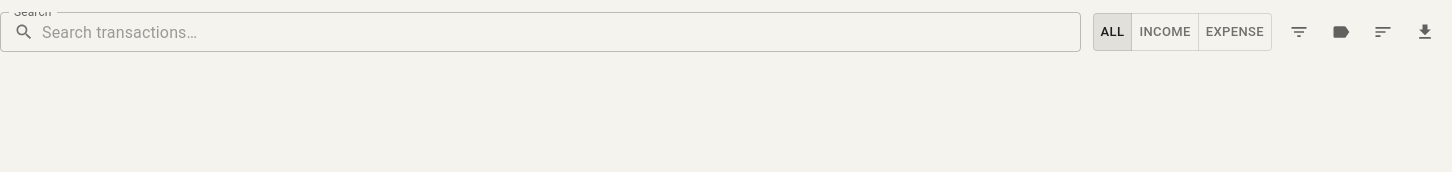
Test: FilterBar › shows category chips when filter icon is clicked
Click the button named "Filter by category": (1341, 32) [1326,17,1356,47]
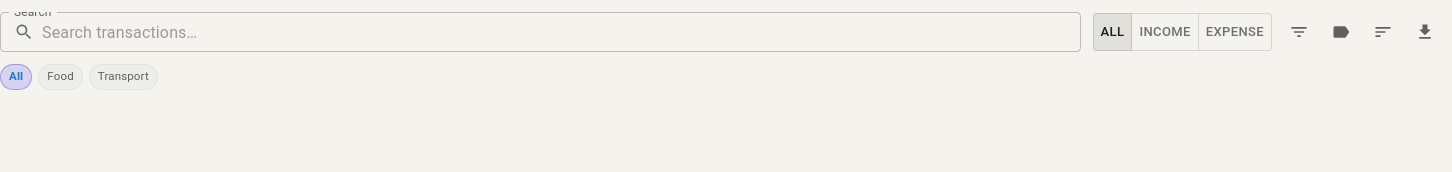
Check: the text "Food" is shown, box [47,69,74,83]
Check: the text "Transport" is shown, box [98,69,149,83]
